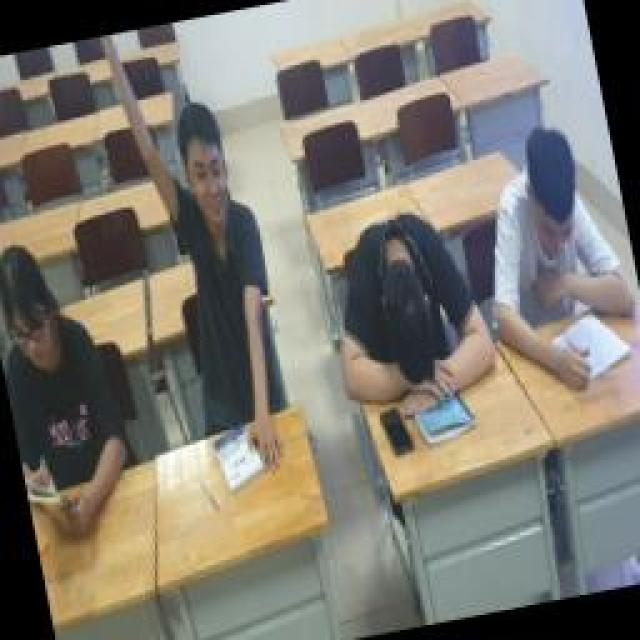sleep: (315, 205, 510, 465)
study: (140, 95, 308, 485), (467, 120, 640, 395), (0, 227, 148, 545)
